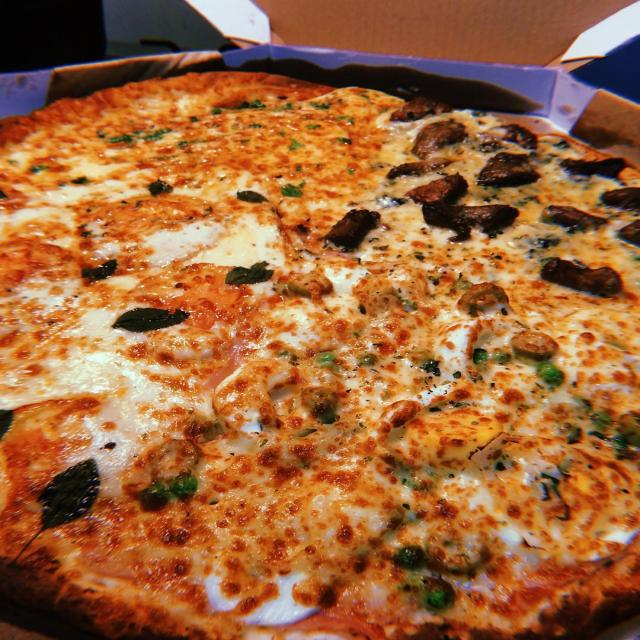basil: (9, 441, 116, 571), (110, 306, 188, 332), (224, 259, 276, 286), (234, 190, 269, 206)
green_olives: (428, 528, 489, 574), (452, 282, 516, 315), (509, 329, 558, 360), (291, 273, 334, 296)
pizza: (0, 70, 640, 640)
